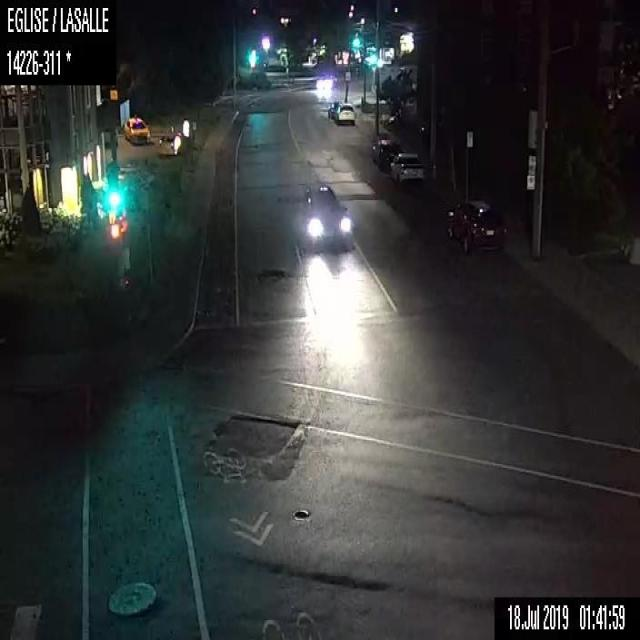vehicle: (443, 194, 507, 254), (302, 180, 353, 247), (390, 152, 424, 186), (370, 136, 398, 172), (123, 113, 149, 145), (157, 127, 179, 154), (334, 104, 356, 125), (314, 72, 334, 89), (327, 99, 341, 117)
